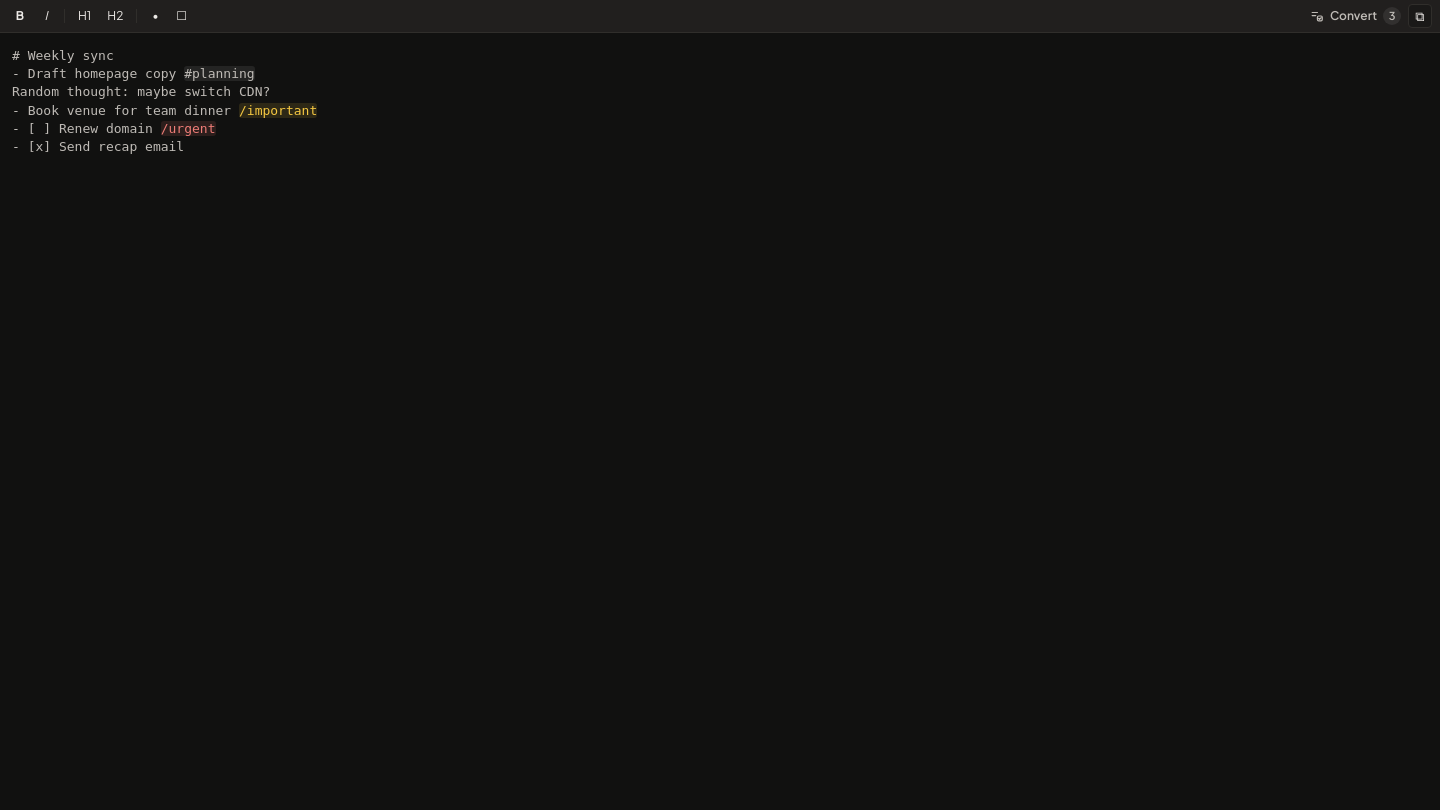
Scenario: Convert preview › lists one parsed draft per bullet line; nothing is stored
Click the button "Convert 3" at [1354, 16], box [1303,4,1406,28]
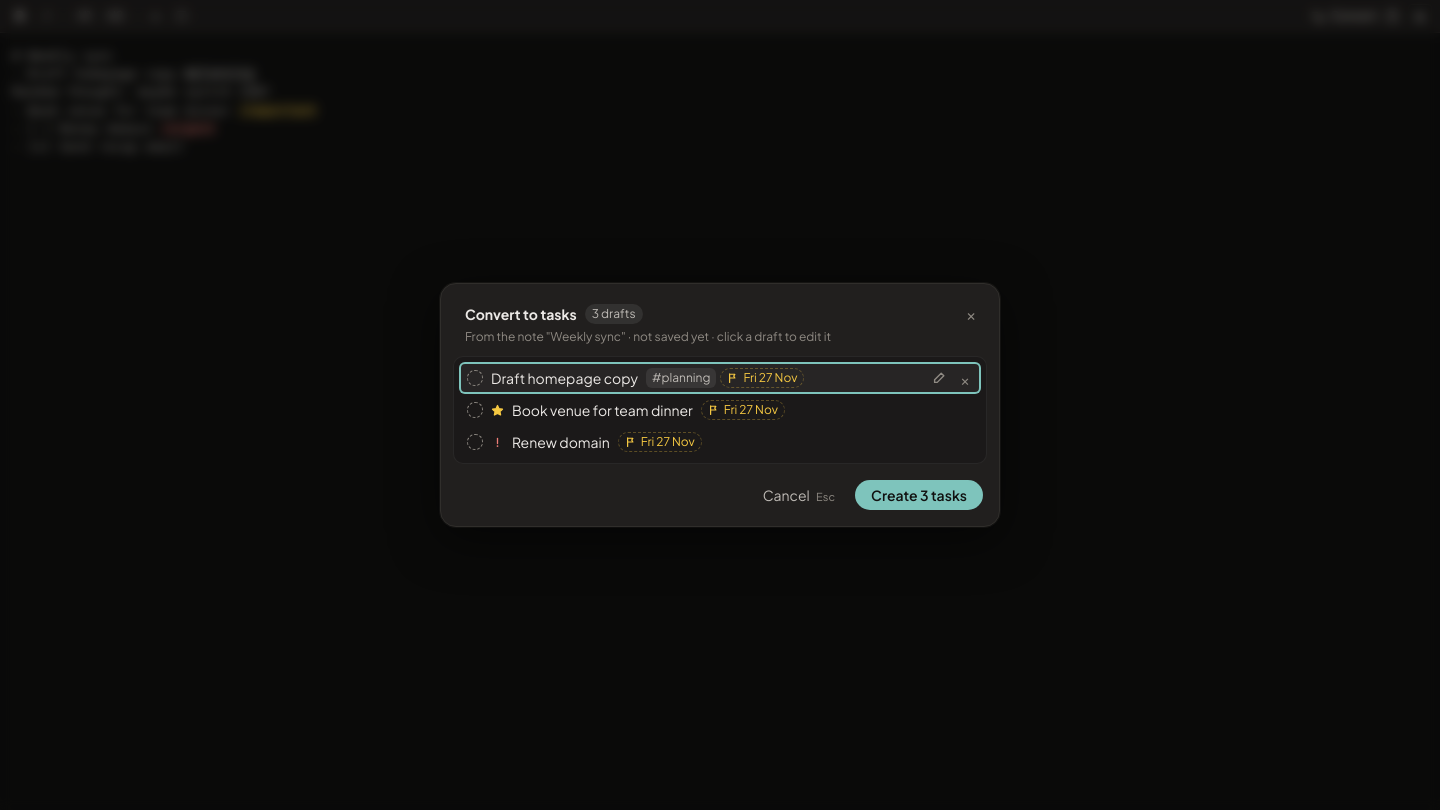
Expected: the text "3 drafts" is shown, [585,304,643,324]
Expected: the text "From the note \"Weekly sync\"" is shown, [465,329,626,344]
Expected: the text "#planning" is shown, [646,368,716,388]
